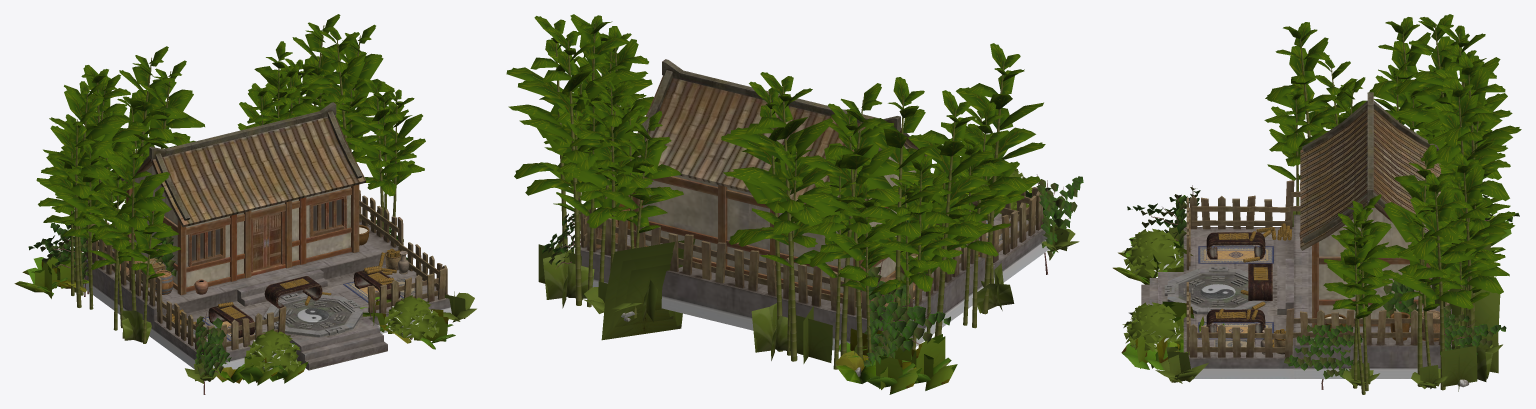
Rendered from 44-imperialacademy.glb.
3 renders of one model, left to right at view 1: azimuth 30°, elevation 25°; view 2: azimuth 150°, elevation 25°; view 3: azimuth 270°, elevation 25°, orthographic. The views are drawn at different scales.
Size of the model in its own units: 11.05 by 6.8 by 10.
Materials: 23 (22 with a texture image).
